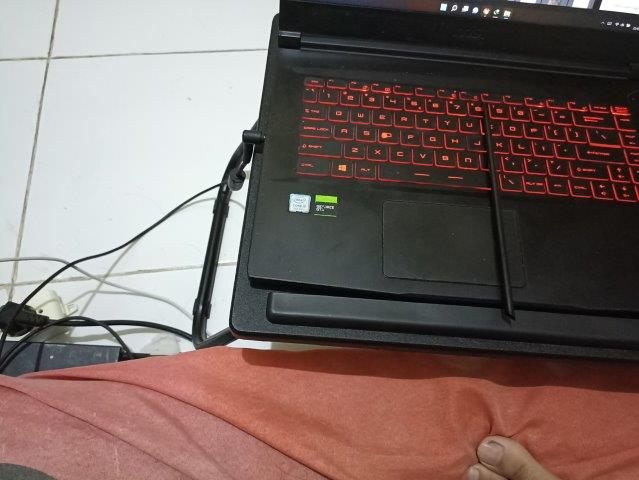sedotan: (483, 119, 513, 314)
